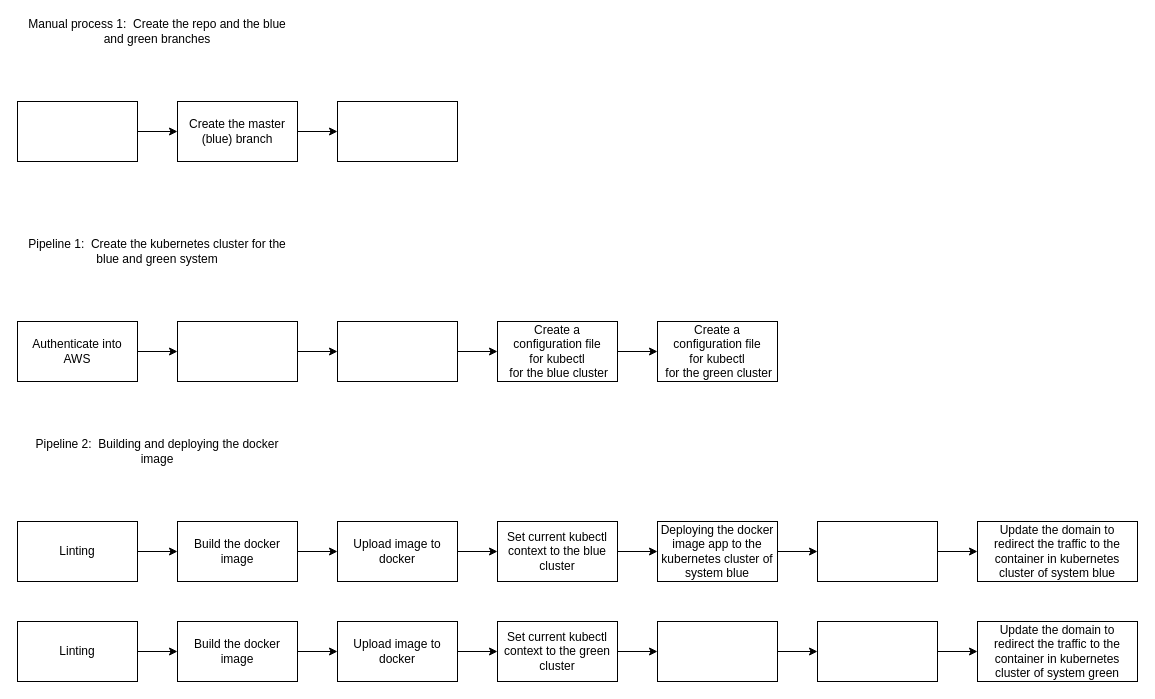
This 1155x699 diagram has some shape labels left out. The centre of each missing label's shape, as x and y in pixels:
"Create the github repo" goes at (77,131).
"Create the green branch" goes at (397,131).
"Create the kubernetes cluster for the blue system" goes at (237,351).
"Create the kubernetes cluster for the green system" goes at (397,351).
"Deploying the docker image app to the kubernetes cluster of system green" goes at (717,651).
"Expose the container in kubernetes cluster of system blue" goes at (877,551).
"Expose the container in kubernetes cluster of system green" goes at (877,651).
